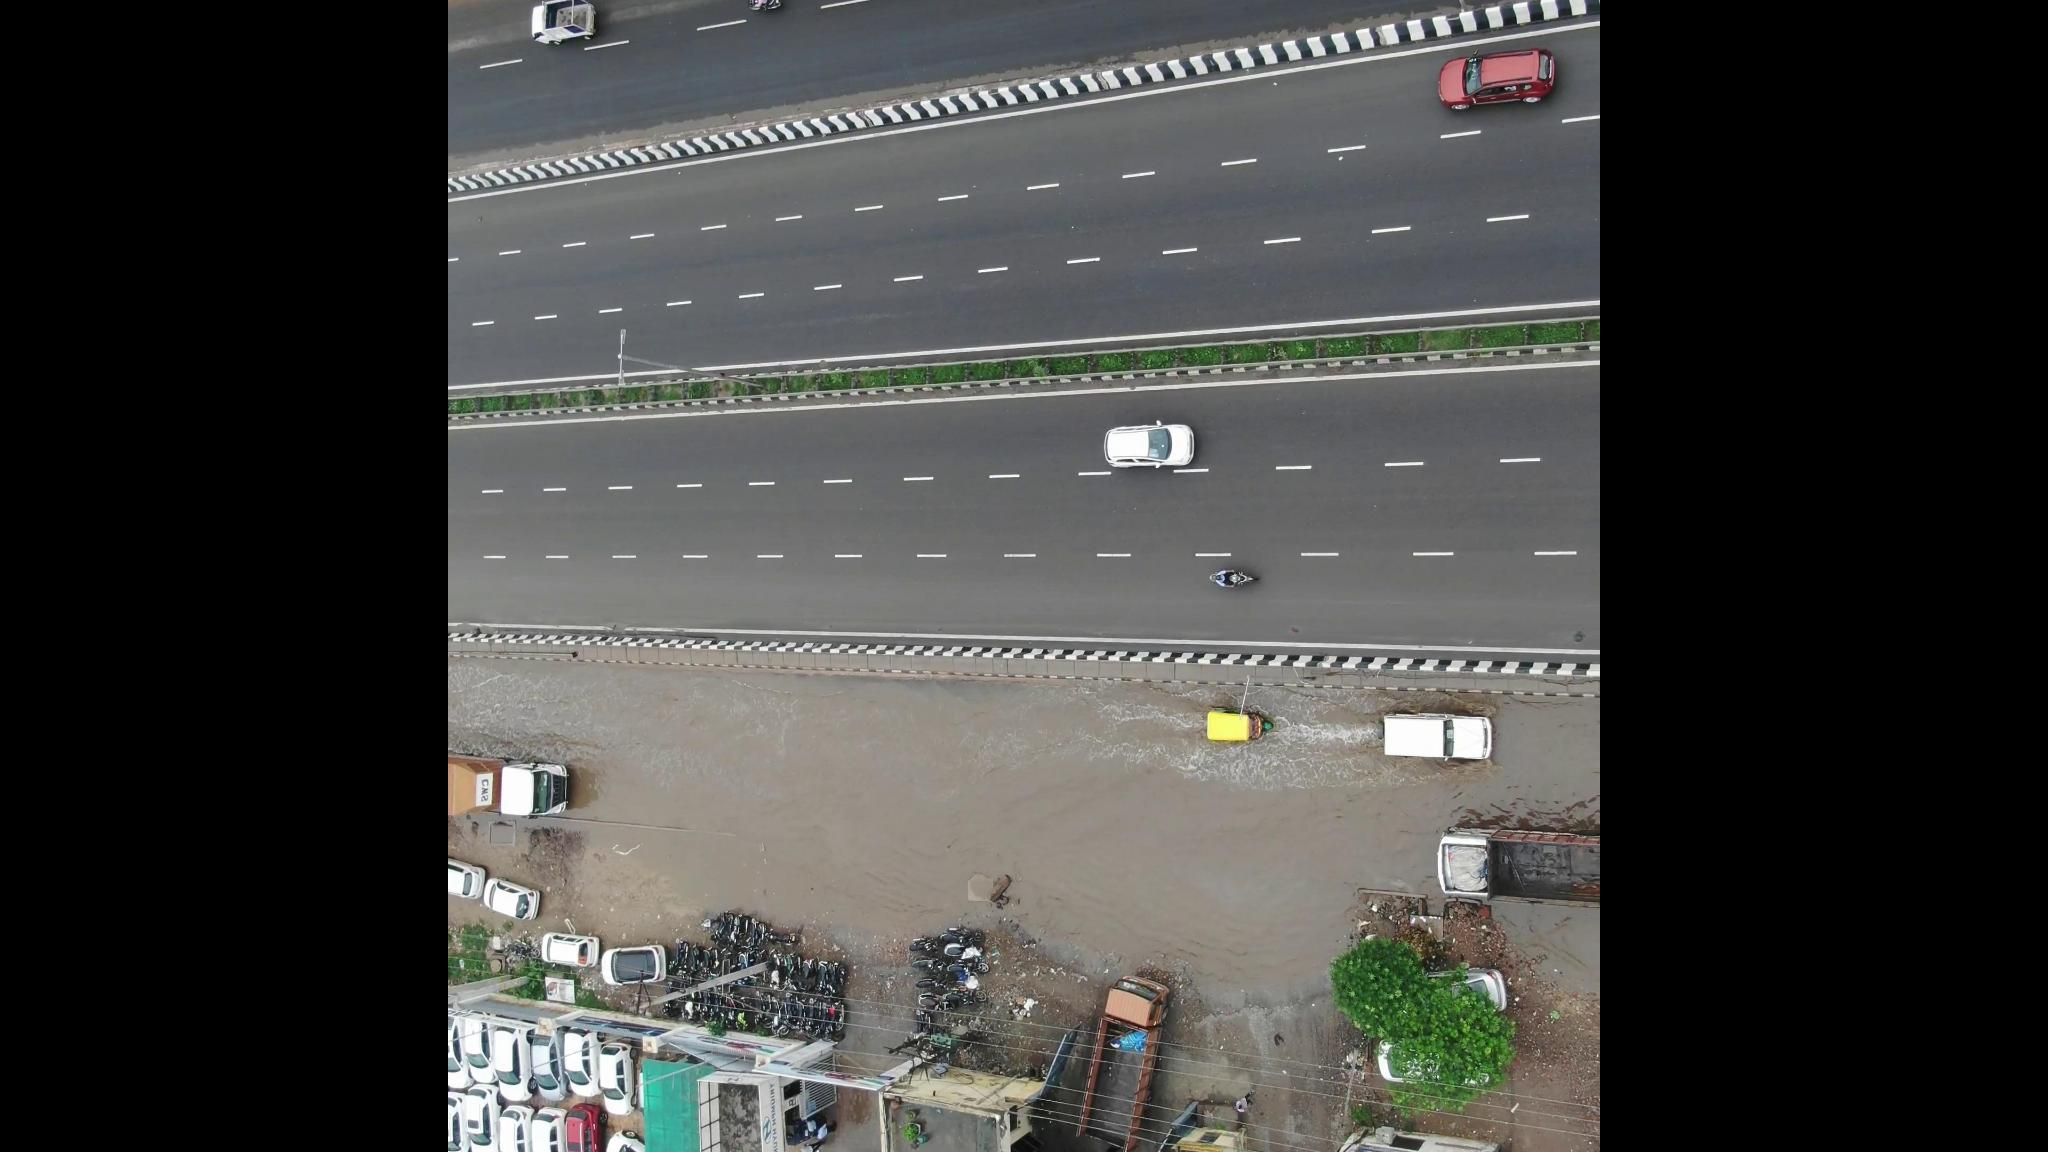Waterlogging: (767, 653, 1331, 945), (464, 625, 710, 890)
